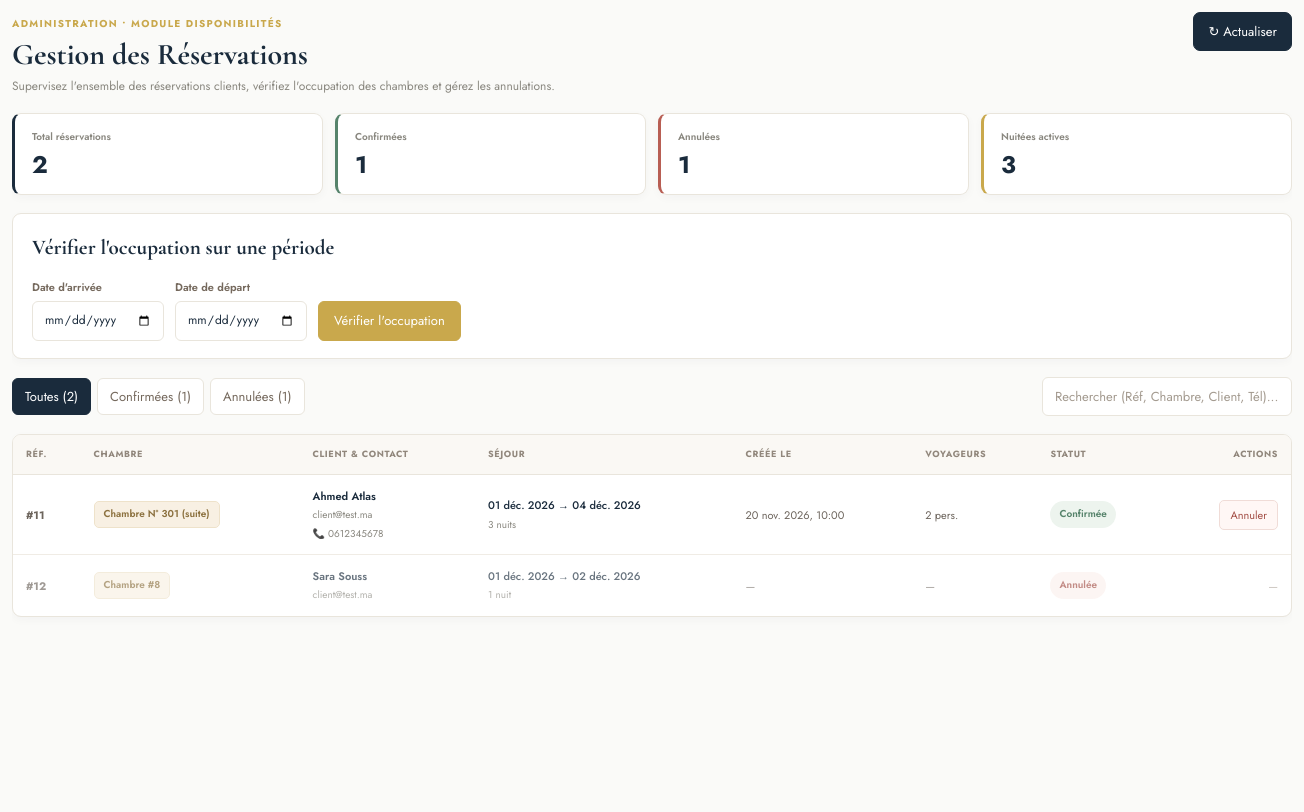
AdminDisponibilitesPage › recherche 11
The image size is (1304, 812).
Expected: the text "#11" is shown, [13, 475, 81, 555]
Type "11" into the field with placeholder "Rechercher (Réf, Chambre, Client, Tél)..." at x=1167, y=397, box [1042, 377, 1292, 416]
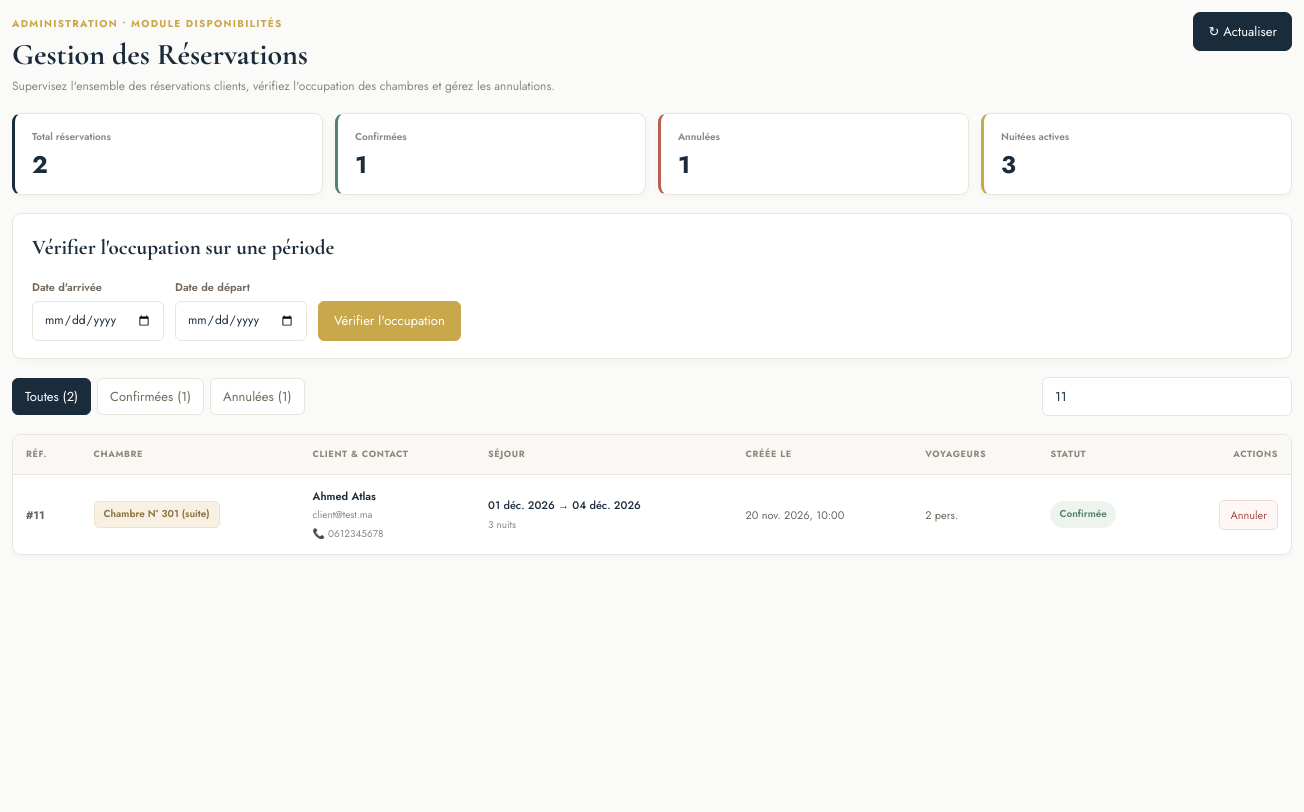
Expected: the text "#11" is shown, [13, 475, 81, 554]
Expected: the text "#12" is gone
